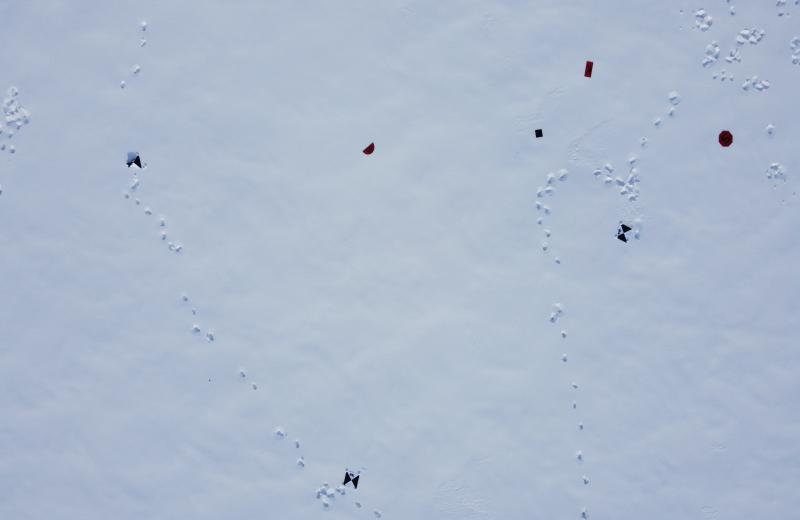Octagon: (718, 131, 733, 147)
Rectangle: (584, 60, 594, 79)
Semi Circle: (362, 142, 376, 156)
Square: (535, 128, 543, 138)
